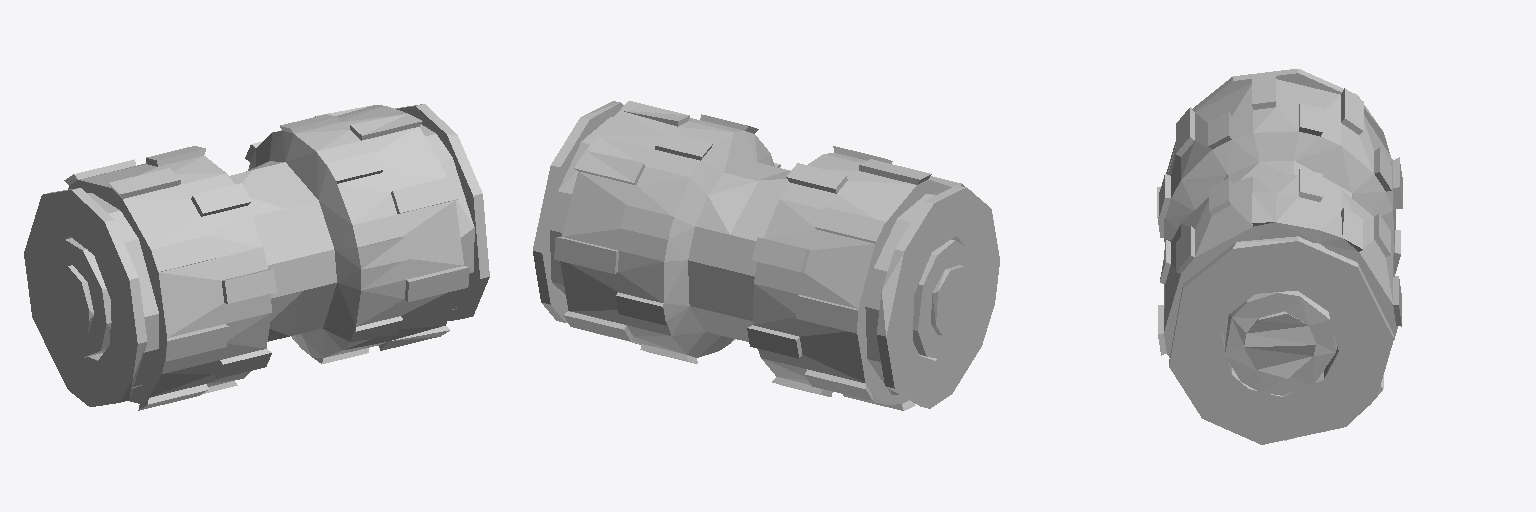
Rendered from Kola_000021.obj.
The picture shows the model from 3 angles: view 1: azimuth 30°, elevation 25°; view 2: azimuth 150°, elevation 25°; view 3: azimuth 270°, elevation 25°; orthographic projection.
Parts seen in each view (by area): view 1: Cylinder.004; view 2: Cylinder.004; view 3: Cylinder.004.
Boxes of the visible parts, x1=… form: Cylinder.004: x1=24, y1=104, x2=489, y2=410; Cylinder.004: x1=533, y1=101, x2=999, y2=410; Cylinder.004: x1=1157, y1=69, x2=1402, y2=444.
Size of the model in its own units: 2.17 by 1.25 by 1.25.